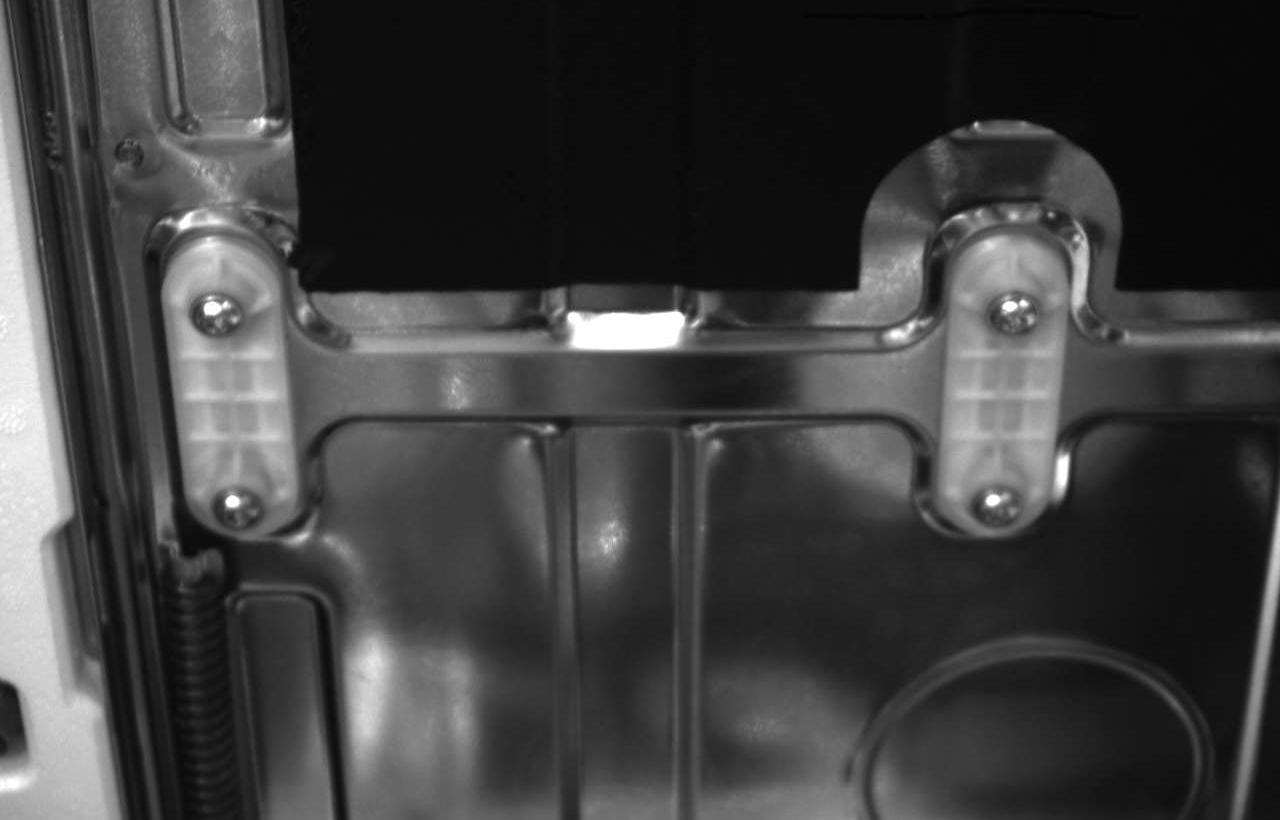vida-ok: (177, 281, 264, 358), (964, 271, 1052, 344), (203, 471, 284, 535), (962, 476, 1037, 535)
